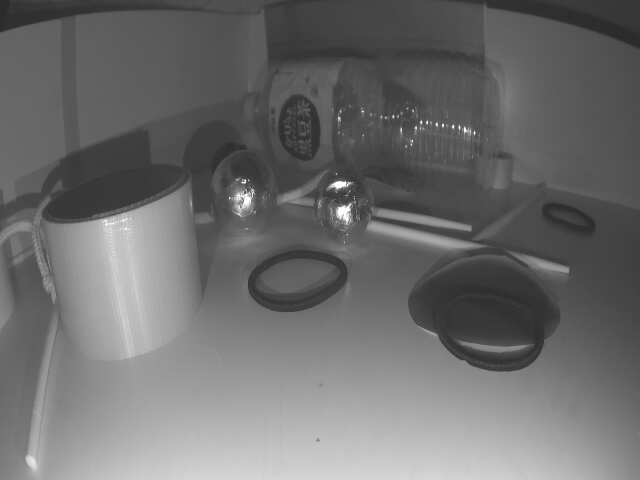Live: (211, 152, 274, 228), (316, 164, 372, 245)
